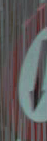Two way: (10, 10, 46, 124)
